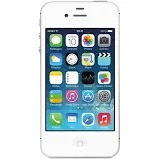iphone: (37, 1, 120, 159)
iphone6: (37, 1, 120, 159)
